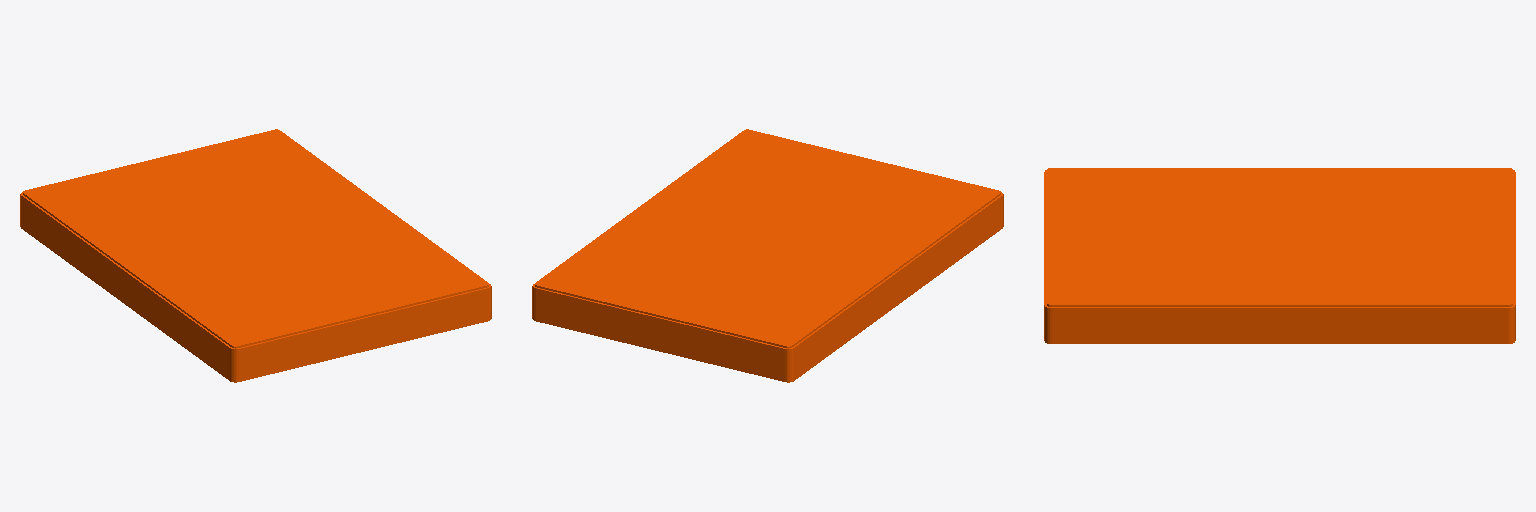
robot.urdf — Mattress_bb89f4cdb3eab616b32a756399014da6:
<?xml version="1.0" ?>
<robot name="Mattress_bb89f4cdb3eab616b32a756399014da6">
   <material name="obj_color">
      <color rgba="1.0 0.423529411765 0.0392156862745 1.0"/>
   </material>
   <link name="top">
      <inertial>
         <origin rpy="5.14486552961941e-05 0.000104150606112947 0.0001539256723855665" xyz="-0.0003569557237459039 0.000556508386737471 -0.0003138284586705948"/>
         <mass value="0.09383258861998502"/>
         <inertia ixx="0.0001041506061129502" ixy="9.963692833795287e-14" ixz="-1.255123104601076e-11" iyy="5.144865529619412e-05" iyz="-1.640807508748609e-15" izz="0.0001539256723855634"/>
      </inertial>
      <visual>
         <origin rpy="0 0 0" xyz="0 0 0"/>
         <geometry>
            <mesh filename="top_watertight_tiny.stl" scale="1 1 1"/>
         </geometry>
         <material name="obj_color"/>
      </visual>
      <collision>
         <origin rpy="0 0 0" xyz="0 0 0"/>
         <geometry>
            <mesh filename="top_watertight_tiny.obj" scale="1 1 1"/>
         </geometry>
      </collision>
   </link>
   <link name="bottom">
      <inertial>
         <origin rpy="1.633333333199431e-08 1.633333333199431e-08 1.633333333362855e-08" xyz="0.3464080000000008 0.3464080000000008 0.3464080000000008"/>
         <mass value="0.0009800000000000017"/>
         <inertia ixx="1.633333333253906e-08" ixy="5.447480642029219e-19" ixz="5.447480642029219e-19" iyy="1.633333333253906e-08" iyz="5.447480642029219e-19" izz="1.633333333253906e-08"/>
      </inertial>
      <visual>
         <origin rpy="0 0 0" xyz="0 0 0"/>
         <geometry>
            <mesh filename="bottom_watertight_tiny.stl" scale="1 1 1"/>
         </geometry>
         <material name="obj_color"/>
      </visual>
   </link>
   <joint name="rotation" type="revolute">
      <origin xyz="0 0 0"/>
      <axis xyz="0 0 -1"/>
      <parent link="bottom"/>
      <child link="top"/>
      <dynamics damping="1.0" friction="1.0"/>
      <limit effort="0.1" velocity="0.1" lower="0" upper="0.001"/>
   </joint>
</robot>

--- What the picture shows (computed from the rendered views, not written in the file) ---
Views: 3 orthographic renders of the robot side by side, from view 1: azimuth 30°, elevation 25°; view 2: azimuth 150°, elevation 25°; view 3: azimuth 270°, elevation 25°.
Model Mattress_bb89f4cdb3eab616b32a756399014da6 with 2 links and 1 joints (1 revolute), rooted at bottom, posed every joint at zero.
Links seen in each view (by area): view 1: top; view 2: top; view 3: top.
Boxes of the visible links, left/top/right/bottom form: top: left=20, top=129, right=491, bottom=382; top: left=532, top=129, right=1003, bottom=382; top: left=1044, top=168, right=1515, bottom=343.
Size in the robot's own frame: 0.0805 by 0.115 by 0.0104 metres.
1 mesh visuals loaded from 2 distinct referenced files (1 binary STL); not drawn: 1 (reference not matched to a file when rendering).
